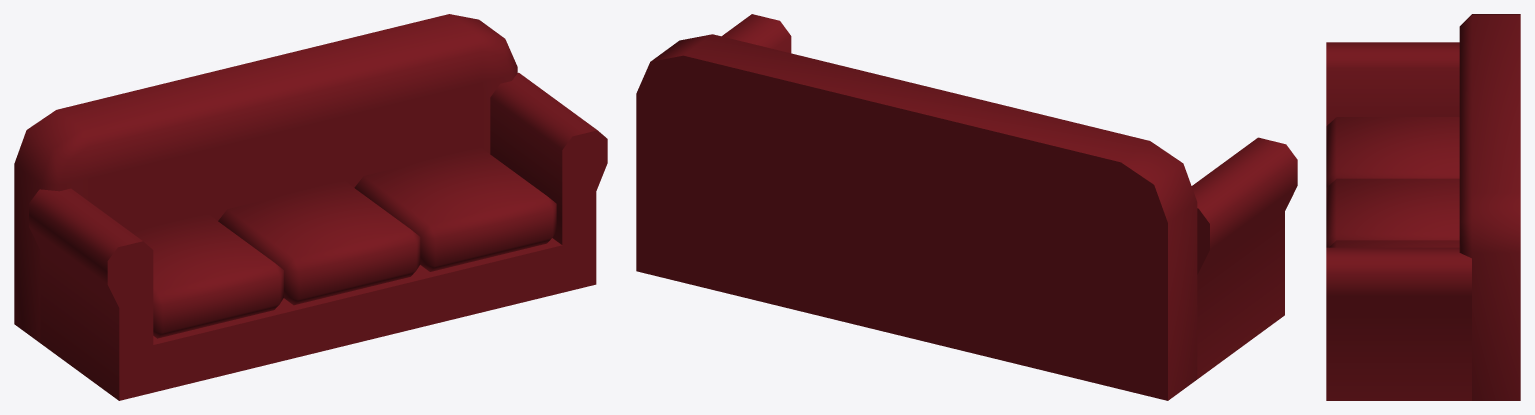
File: Mesh_SillonTriple.fbx
The picture shows the model from 3 angles, left to right: view 1: azimuth 30°, elevation 25°; view 2: azimuth 150°, elevation 25°; view 3: azimuth 270°, elevation 25°; orthographic projection. The views are drawn at different scales.
Parts seen in each view (by area): view 1: Mesh_SillonTriple; view 2: Mesh_SillonTriple; view 3: Mesh_SillonTriple.
Boxes of the visible parts, bbox=[...] form: Mesh_SillonTriple: bbox=[14, 14, 607, 400]; Mesh_SillonTriple: bbox=[636, 14, 1297, 400]; Mesh_SillonTriple: bbox=[1326, 14, 1520, 400].
Size of the model in its own units: 176 by 68.61 by 64.
